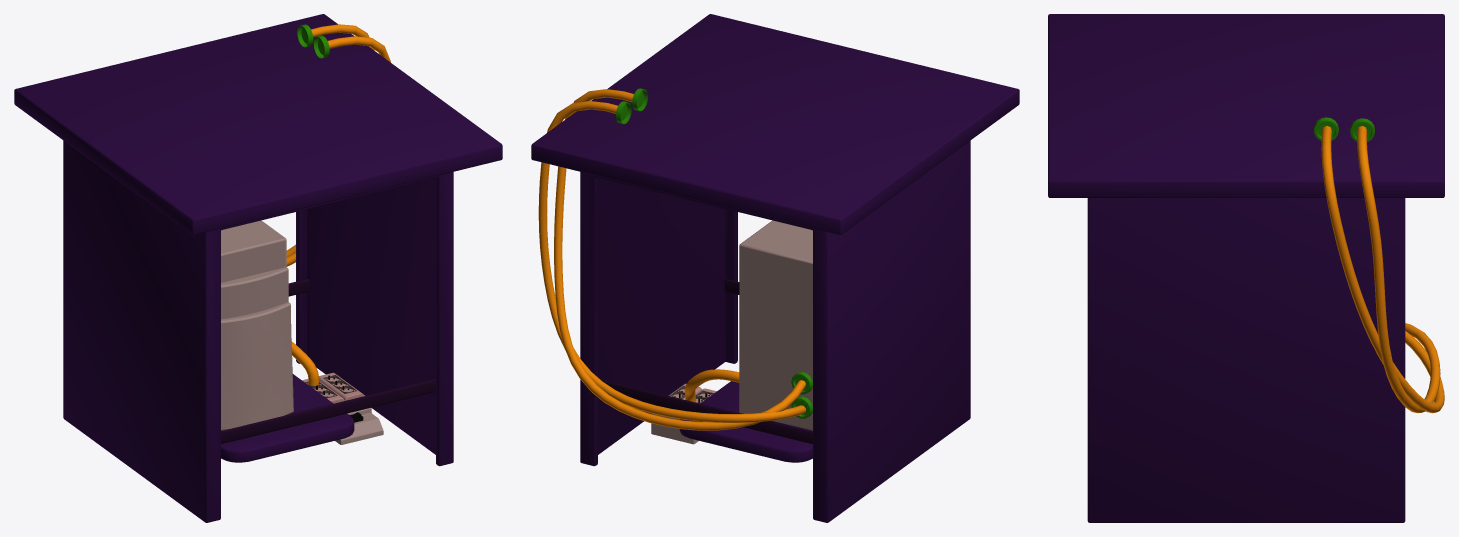
File: SM_Recepteur_Base.fbx
The picture shows the model from 3 angles, left to right: view 1: azimuth 30°, elevation 25°; view 2: azimuth 150°, elevation 25°; view 3: azimuth 270°, elevation 25°; orthographic projection. The views are drawn at different scales.
Visible parts, largest first — view 1: Recepteur_Base; view 2: Recepteur_Base; view 3: Recepteur_Base.
Boxes of the visible parts, x1,y1,x2,y2 form: Recepteur_Base: [14, 14, 502, 522]; Recepteur_Base: [531, 14, 1019, 522]; Recepteur_Base: [1048, 14, 1444, 522].
Size of the model in its own units: 107 by 109 by 100.
